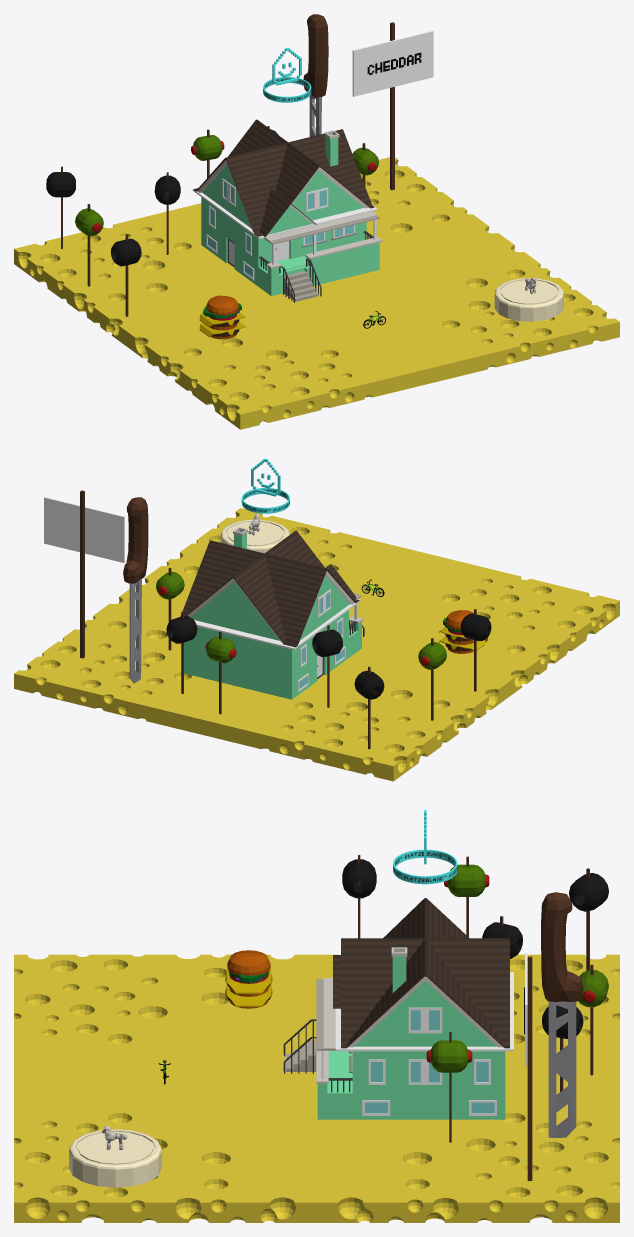
3 views of the same model, one above another, from view 1: azimuth 30°, elevation 25°; view 2: azimuth 150°, elevation 25°; view 3: azimuth 270°, elevation 25° (orthographic). The views are drawn at different scales.
Parts seen in each view (by area): view 1: Cube.022, Cube.352, Cube.023, Cylinder.016, Cube.024, OBJRANDOM_HAMBURGER, TYPE_PREMIUM, Sphere.017, Sphere.018, Sphere.016, Sphere.020, Sphere.022 (+1 smaller); view 2: Cube.022, Cube.352, Cube.023, Cube.024, Cylinder.016, OBJRANDOM_HAMBURGER, TYPE_PREMIUM, Sphere.021, Sphere.017, Sphere.020, Sphere.022, Sphere.016 (+2 smaller); view 3: Cube.022, Cube.352, Cube.024, Cylinder.016, OBJRANDOM_HAMBURGER, Cube.023, Sphere.019, Sphere.016, TYPE_PREMIUM, Sphere.017, Sphere.018, Sphere.022 (+2 smaller).
Part boxes in pixels (<box>): Cube.022: <box>14,157,619,429</box>; Cube.352: <box>192,119,382,302</box>; Cube.023: <box>352,22,433,190</box>; Cylinder.016: <box>494,278,563,321</box>; Cube.024: <box>303,14,328,136</box>; OBJRANDOM_HAMBURGER: <box>199,295,245,339</box>; TYPE_PREMIUM: <box>263,47,311,102</box>; Sphere.017: <box>111,234,141,316</box>; Sphere.018: <box>75,204,103,286</box>; Sphere.016: <box>46,166,75,248</box>; Sphere.020: <box>154,172,180,254</box>; Sphere.022: <box>191,129,224,177</box>; Cube.022: <box>14,508,619,781</box>; Cube.352: <box>179,527,364,699</box>; Cube.023: <box>44,490,124,658</box>; Cube.024: <box>123,497,148,683</box>; Cylinder.016: <box>220,519,289,553</box>; OBJRANDOM_HAMBURGER: <box>439,610,485,653</box>; TYPE_PREMIUM: <box>241,458,289,513</box>; Sphere.021: <box>166,611,197,693</box>; Sphere.017: <box>460,609,491,691</box>; Sphere.020: <box>312,625,342,707</box>; Sphere.022: <box>205,631,236,714</box>; Sphere.016: <box>354,666,384,749</box>; Cube.022: <box>14,954,619,1222</box>; Cube.352: <box>283,898,513,1119</box>; Cube.024: <box>541,892,583,1137</box>; Cylinder.016: <box>69,1129,161,1187</box>; OBJRANDOM_HAMBURGER: <box>225,950,272,1008</box>; Cube.023: <box>524,953,532,1180</box>; Sphere.019: <box>426,1032,472,1142</box>; Sphere.016: <box>569,868,608,970</box>; TYPE_PREMIUM: <box>393,810,457,884</box>; Sphere.017: <box>342,855,376,938</box>; Sphere.018: <box>444,856,489,936</box>; Sphere.022: <box>578,964,608,1075</box>.
Size of the model in its own units: 3917 by 2325 by 4000.
38 materials, 4 textured.
